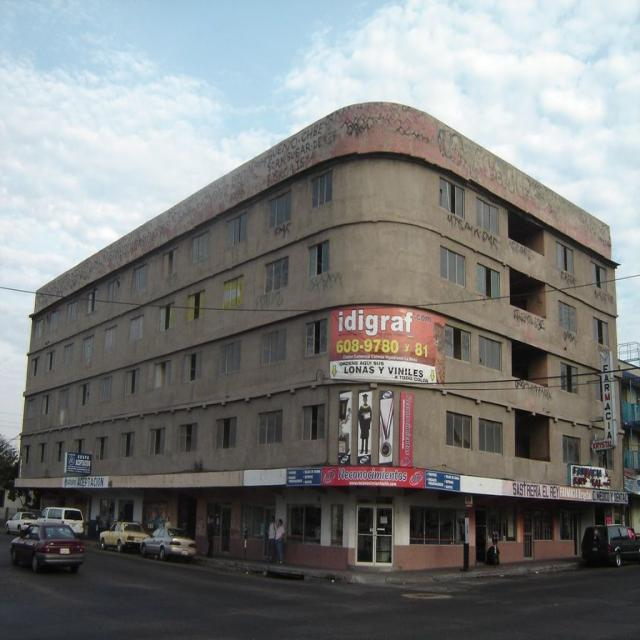car: (11, 514, 85, 574), (141, 521, 196, 557)
